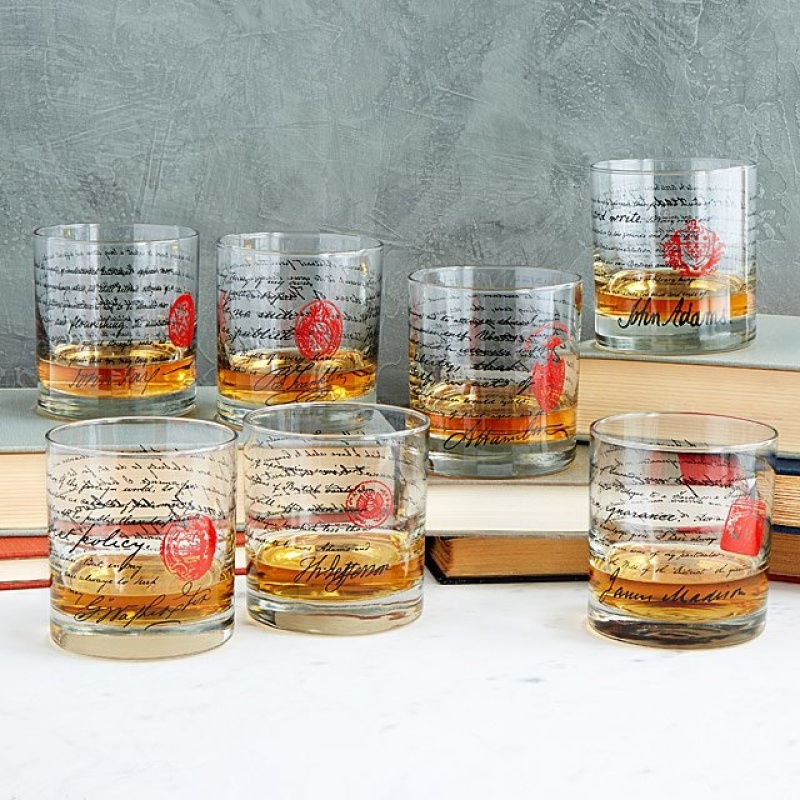whiskey: (588, 409, 776, 643), (49, 424, 236, 657), (241, 410, 431, 619), (395, 260, 581, 465), (587, 152, 758, 354), (26, 219, 200, 409), (222, 224, 387, 408)
